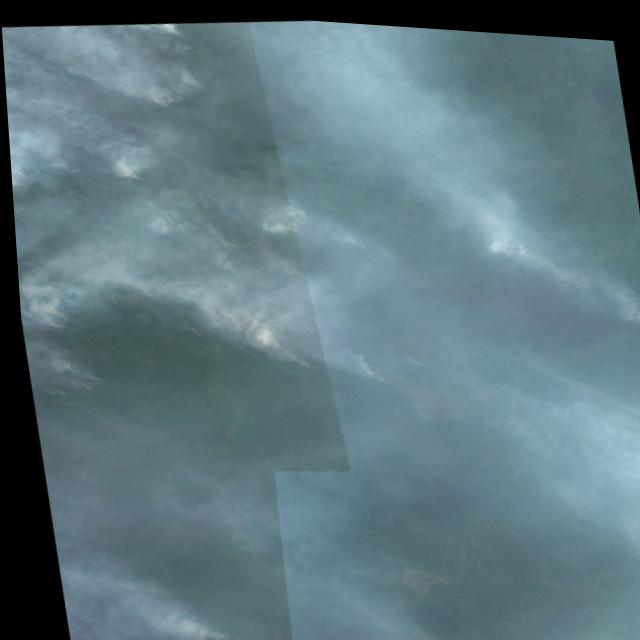fire: (126, 16, 211, 120), (485, 221, 566, 285), (241, 317, 316, 379), (243, 189, 305, 243), (44, 355, 99, 403), (346, 351, 401, 392), (104, 153, 155, 192), (194, 619, 251, 640), (36, 303, 69, 335), (343, 225, 369, 258), (631, 309, 640, 335)
